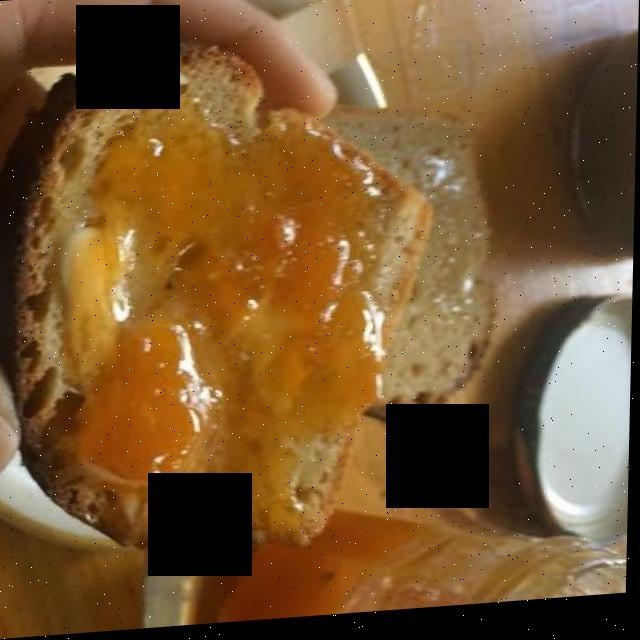bread: (0, 41, 434, 568)
jam: (53, 113, 396, 507)
